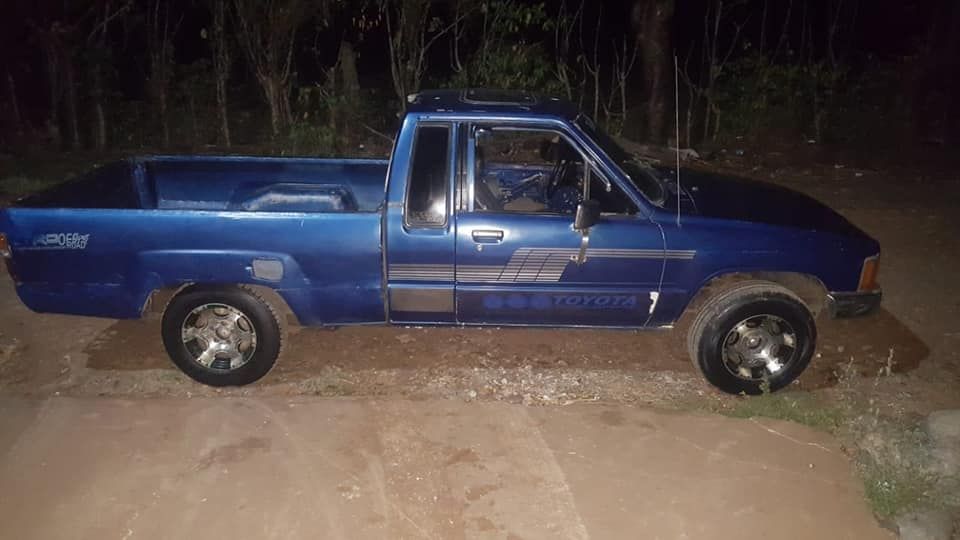pickup: (5, 126, 886, 404)
